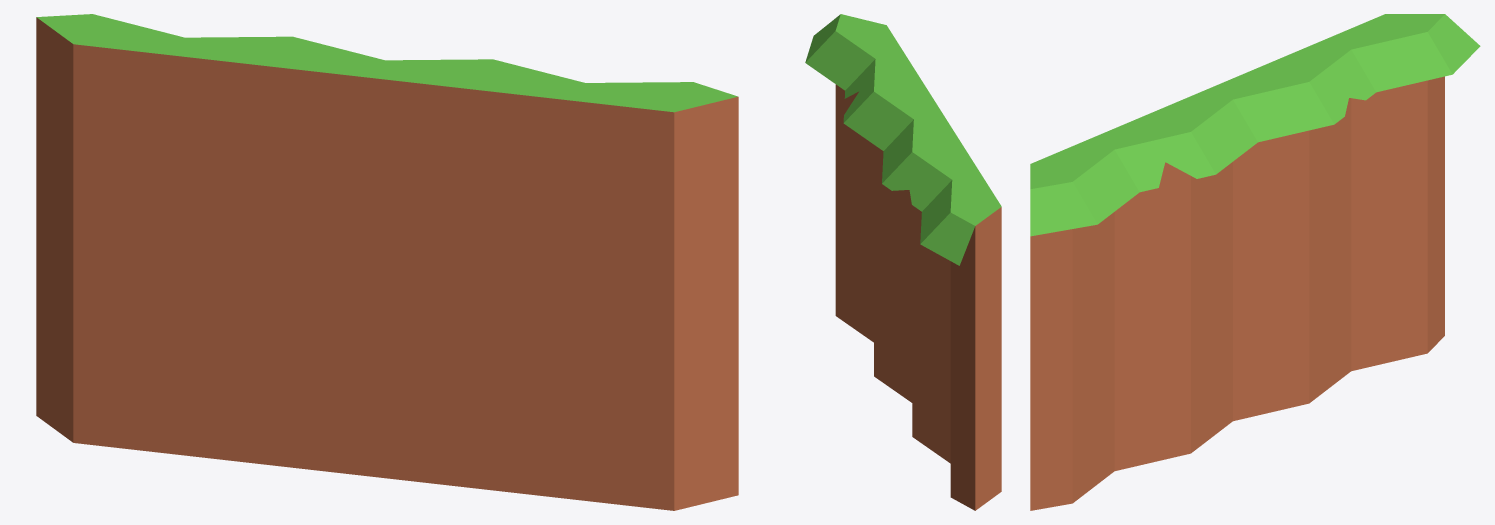
The model's file is cliff_topDiagonal_rock.glb.
The picture shows the model from 3 angles, left to right: view 1: azimuth 30°, elevation 25°; view 2: azimuth 150°, elevation 25°; view 3: azimuth 270°, elevation 25°; orthographic projection. The views are drawn at different scales.
Parts seen in each view (by area): view 1: cliff_topDiagonal_rock; view 2: cliff_topDiagonal_rock; view 3: cliff_topDiagonal_rock.
Boxes of the visible parts, x1=… form: cliff_topDiagonal_rock: x1=36, y1=14, x2=738, y2=510; cliff_topDiagonal_rock: x1=805, y1=14, x2=1001, y2=510; cliff_topDiagonal_rock: x1=1030, y1=14, x2=1480, y2=510.
Bounding box in the file's own units: 1.27 × 1 × 1.27.
